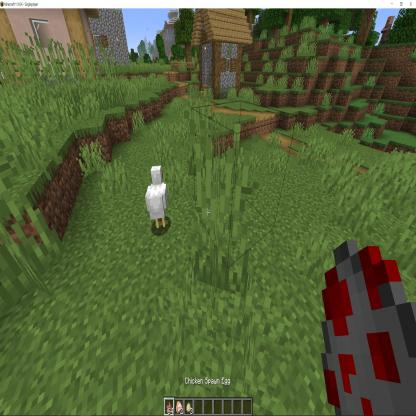minecraft-pigs: (144, 162, 174, 232)
